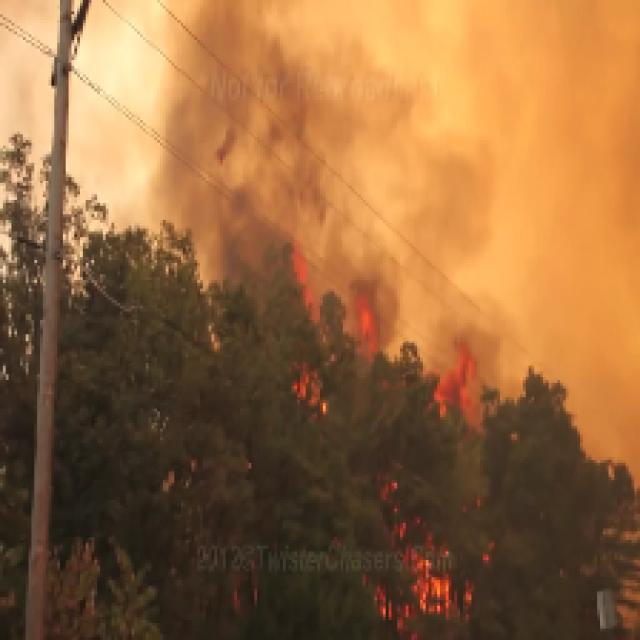Fire: (266, 208, 563, 640)
Smoke: (114, 2, 640, 292), (494, 37, 640, 640)
